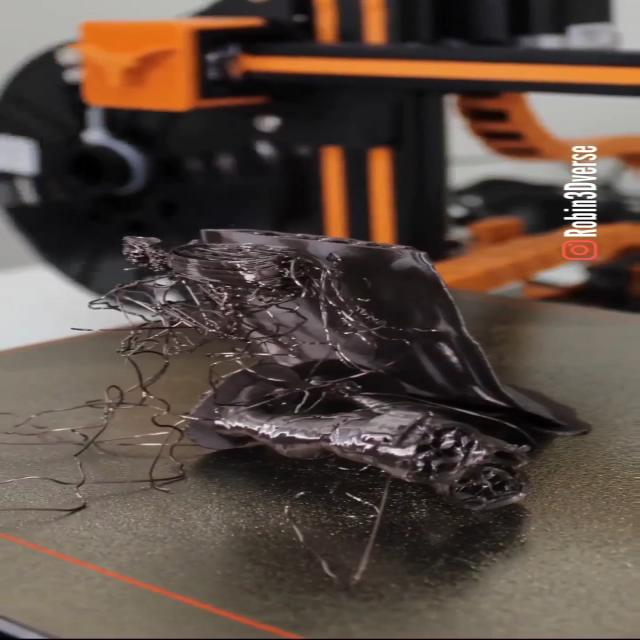spaghetti: (24, 225, 447, 616)
